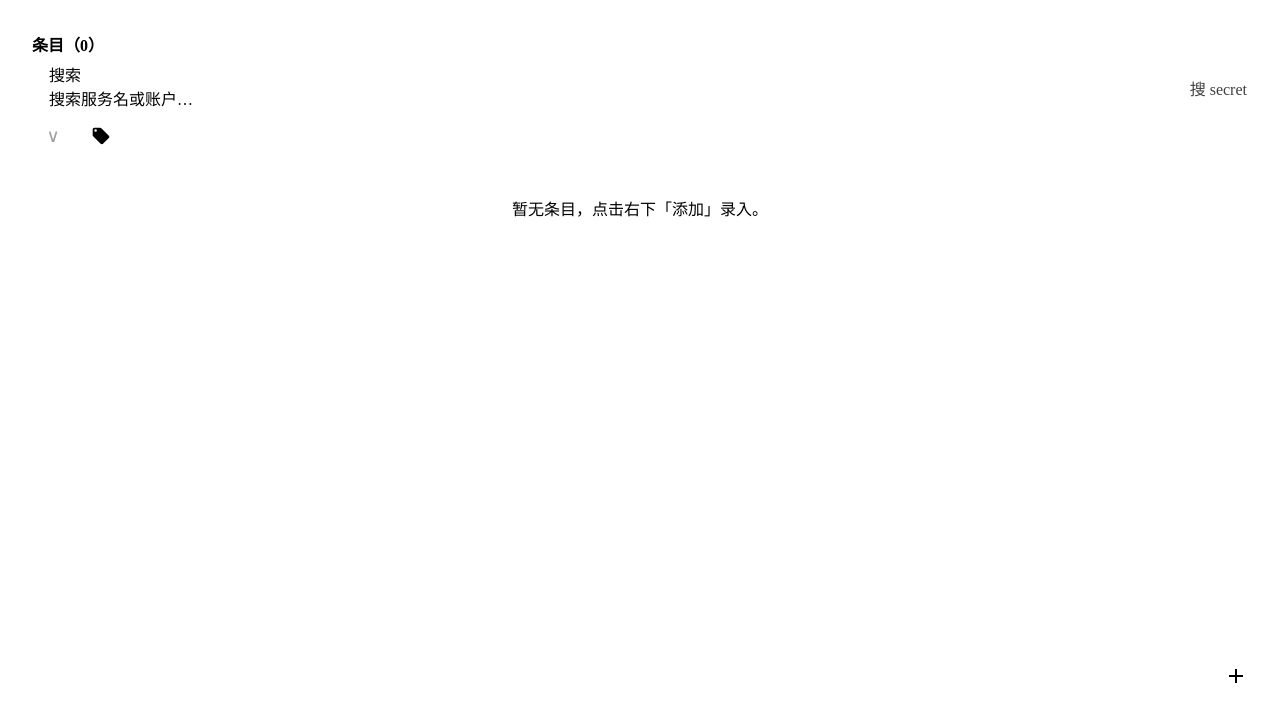
Test: CodesPage 标签筛选（spec §3 管理页） › 零标签态：TagFilterRow 仍渲染（chips 段隐藏），manage-btn 可达并打开 TagManagerDialog（创建首个标签的途径）
Click the button with class "manage-btn" at [101, 136], box [81,116,121,156]
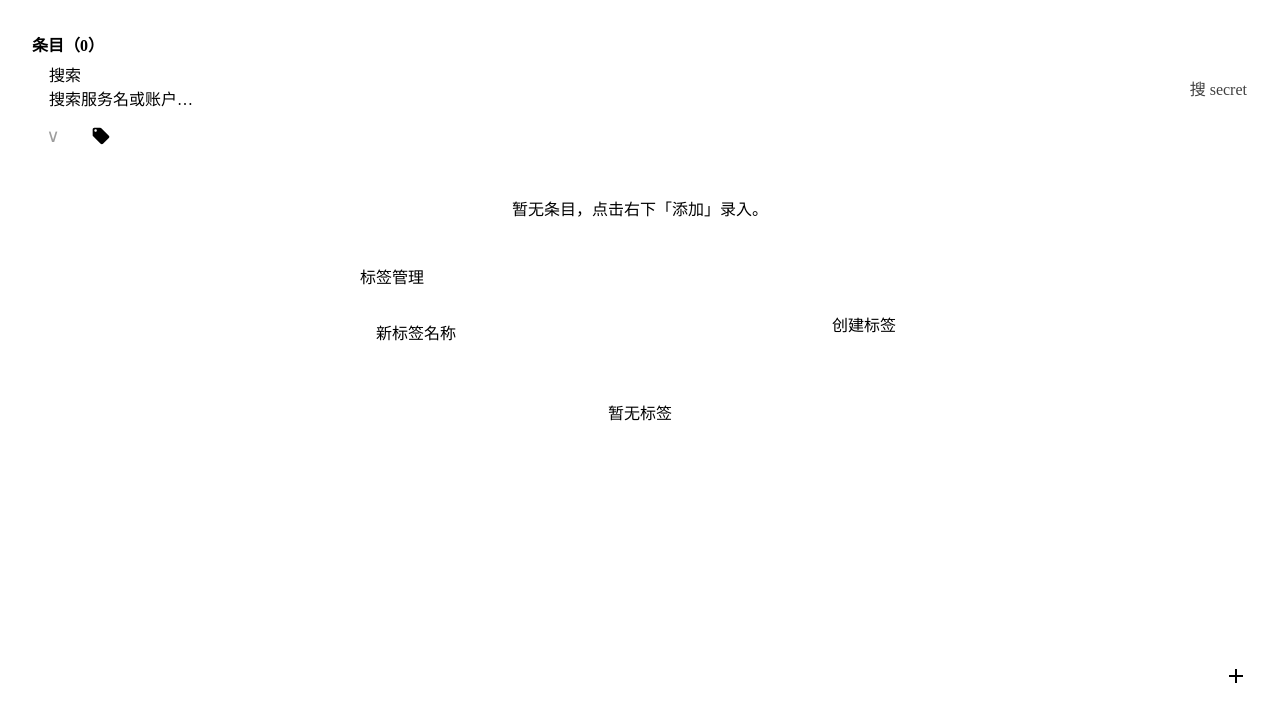
Result: the heading with class "md-dialog__headline" reads "标签管理" at [360,269,424,286]
